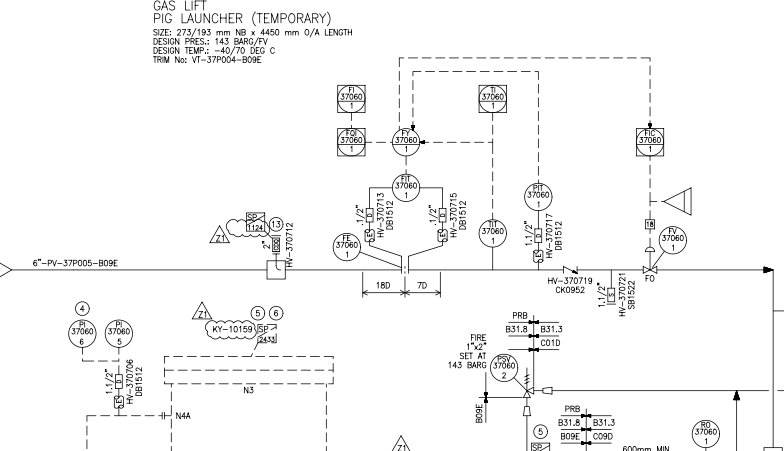Instrument: (521, 179, 556, 213), (477, 215, 510, 250), (387, 126, 423, 158), (331, 229, 363, 263), (488, 352, 521, 384), (390, 171, 422, 203), (66, 318, 99, 349), (657, 224, 688, 256), (104, 318, 134, 350), (692, 417, 721, 449)
Instrument-square: (630, 124, 668, 160), (475, 82, 512, 116), (333, 81, 368, 116), (334, 126, 368, 159)
